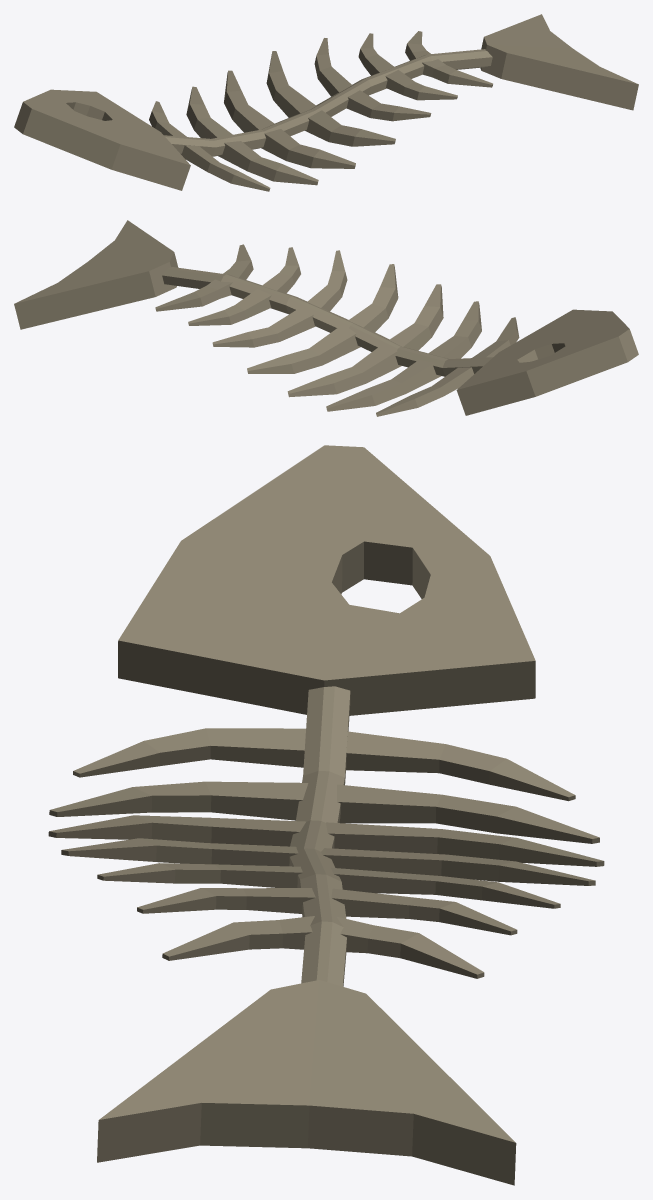
Rendered from fish_bone.glb.
3 views of the same model, one above another, from view 1: azimuth 30°, elevation 25°; view 2: azimuth 150°, elevation 25°; view 3: azimuth 270°, elevation 25° (orthographic). The views are drawn at different scales.
Visible parts, largest first — view 1: FishBone; view 2: FishBone; view 3: FishBone.
Part boxes in pixels (bbox=[...]): FishBone: bbox=[14, 14, 638, 191]; FishBone: bbox=[14, 220, 638, 416]; FishBone: bbox=[48, 445, 604, 1185].
Size of the model in its own units: 5.53 by 0.9407 by 2.35.
